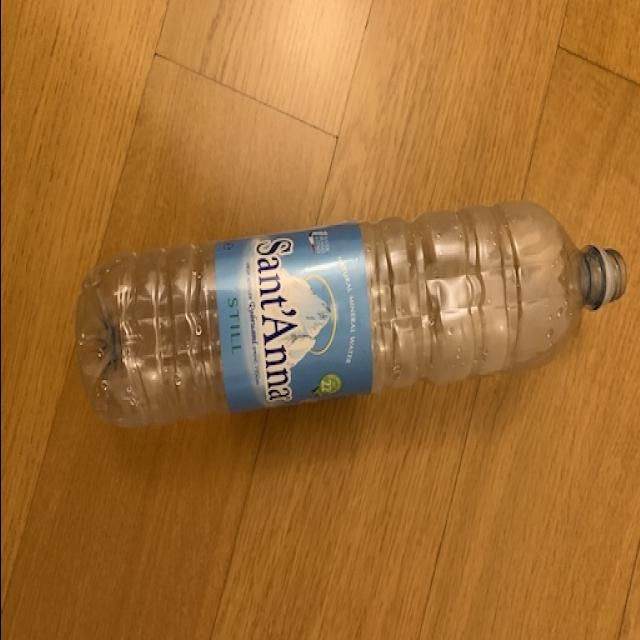litter: (70, 194, 630, 433)
